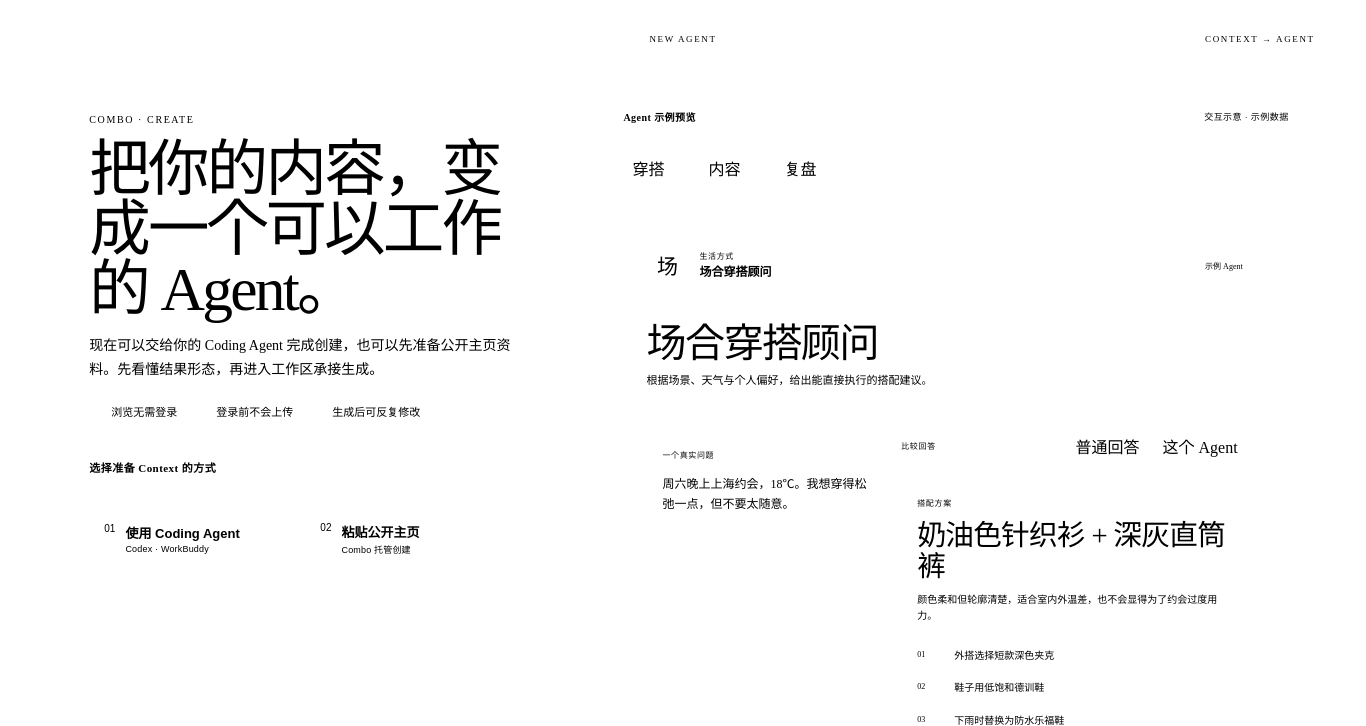
Test: LandingPage › 双入口点击后保持单开，切换回来不丢失 Combo 表单输入
Click the button "02 粘贴公开主页 Combo 托管创建". click: (409, 539)
box: [305, 487, 512, 591]
(page scrolled)
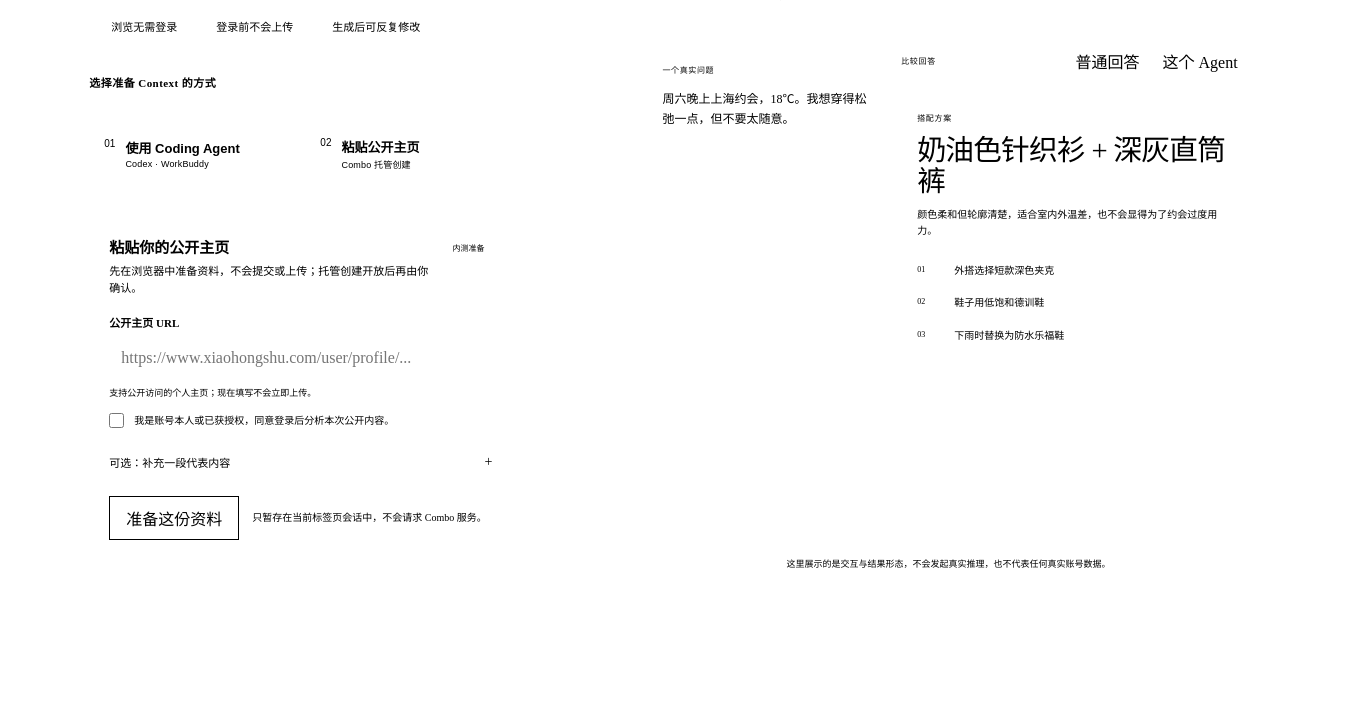
Now the button "02 粘贴公开主页 Combo 托管创建" is expanded, box [305, 102, 512, 206]
Now the element with id "cb-landing-combo-panel" is shown, box [89, 218, 512, 560]
Type "https://example.com/creator" into the field labelled "公开主页 URL". click: (301, 358)
box: [109, 336, 492, 380]
Click the checkbox labelled "我是账号本人或已获授权，同意登录后分析本次公开内容。". click: (117, 420)
box: [109, 413, 124, 428]
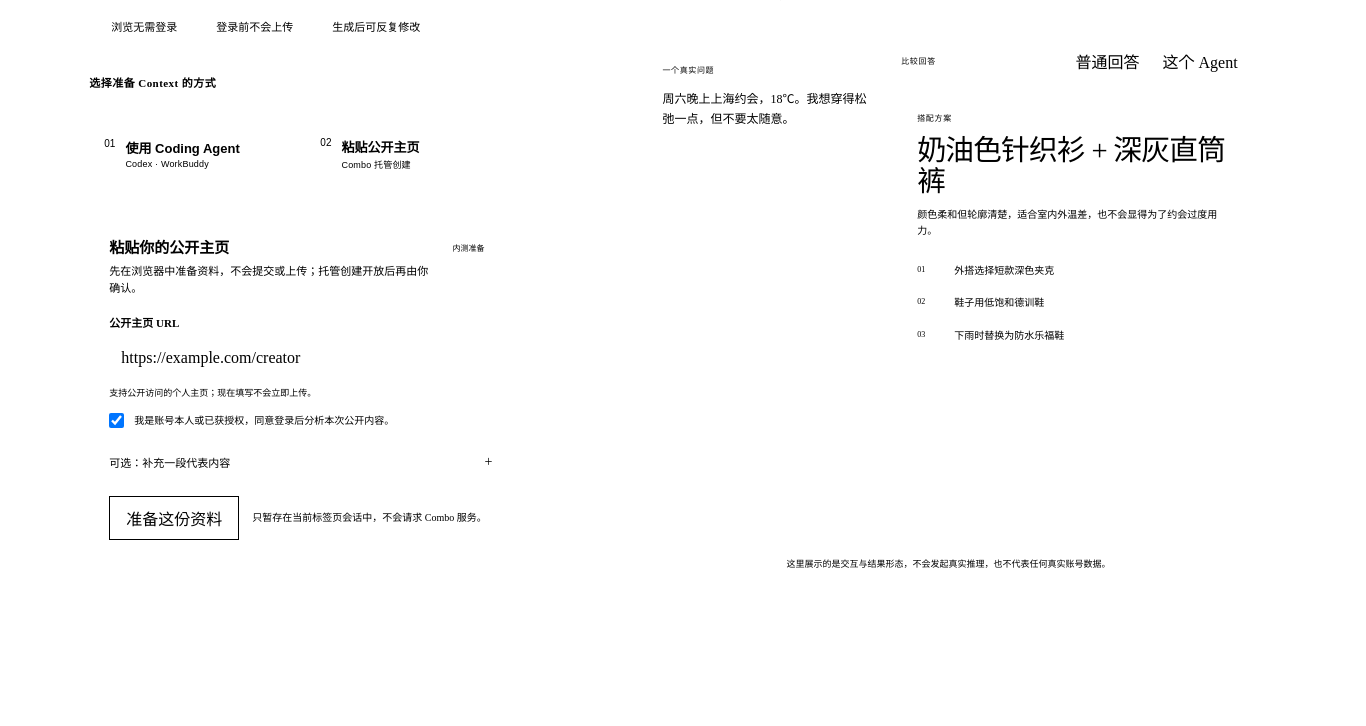
Click the heading "可选：补充一段代表内容". click: (170, 463)
box: [109, 457, 230, 469]
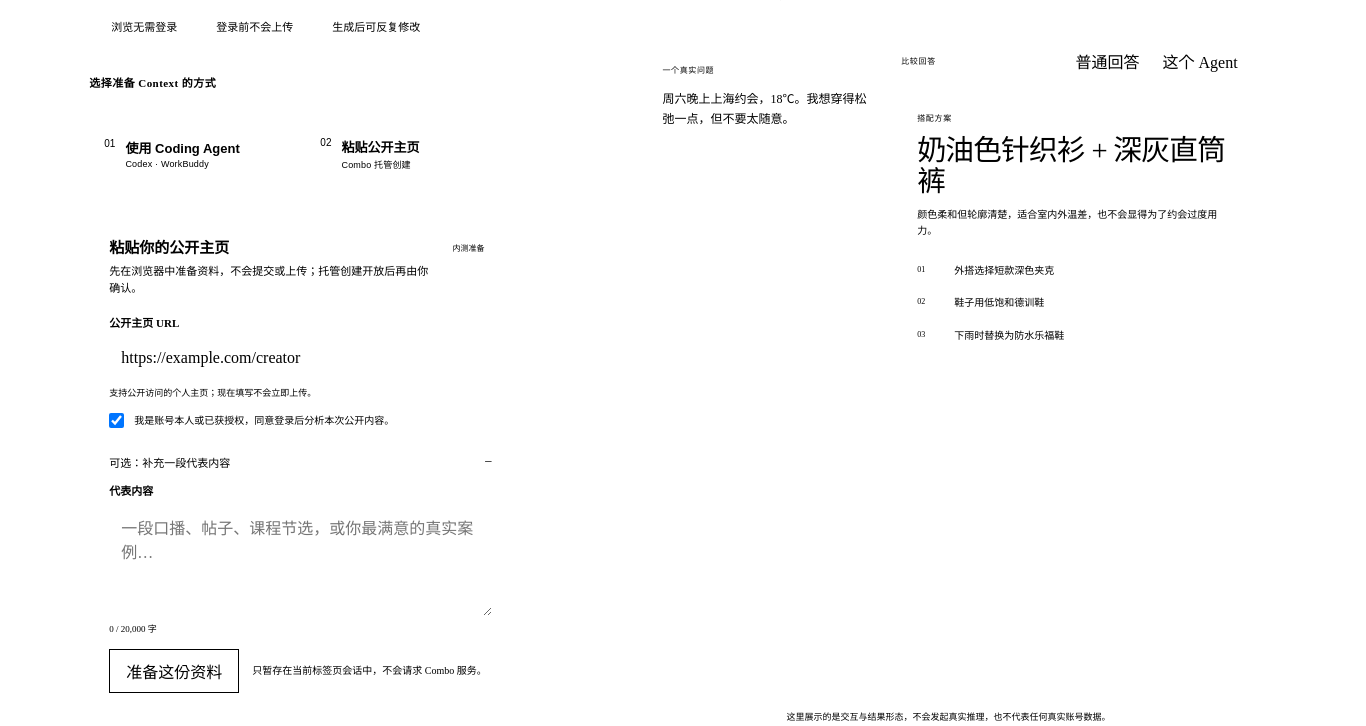
Type "这是一段足够长的代表内容，切换入口之后也不应该丢失。" into the text box labelled "代表内容 0 / 20,000 字". click: (301, 560)
box: [109, 504, 492, 616]
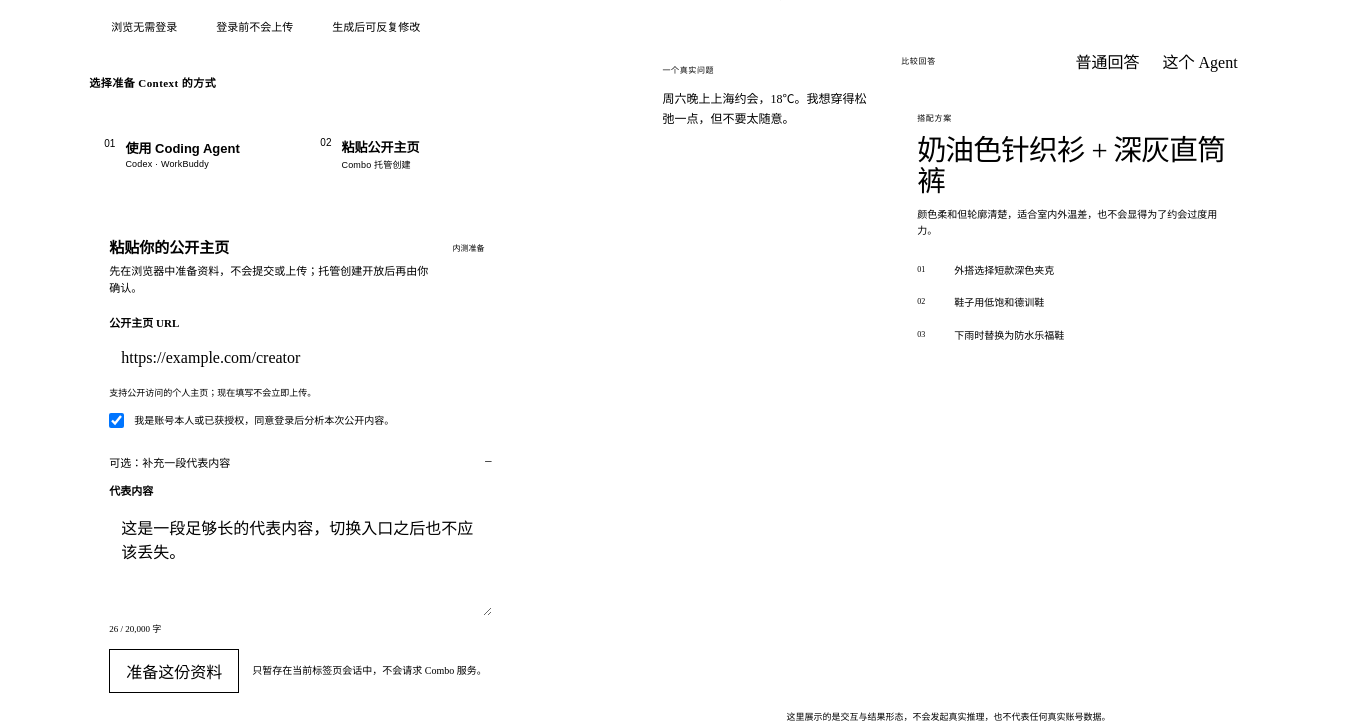
Click the button "01 使用 Coding Agent Codex · WorkBuddy". click: (193, 154)
box: [89, 102, 296, 206]
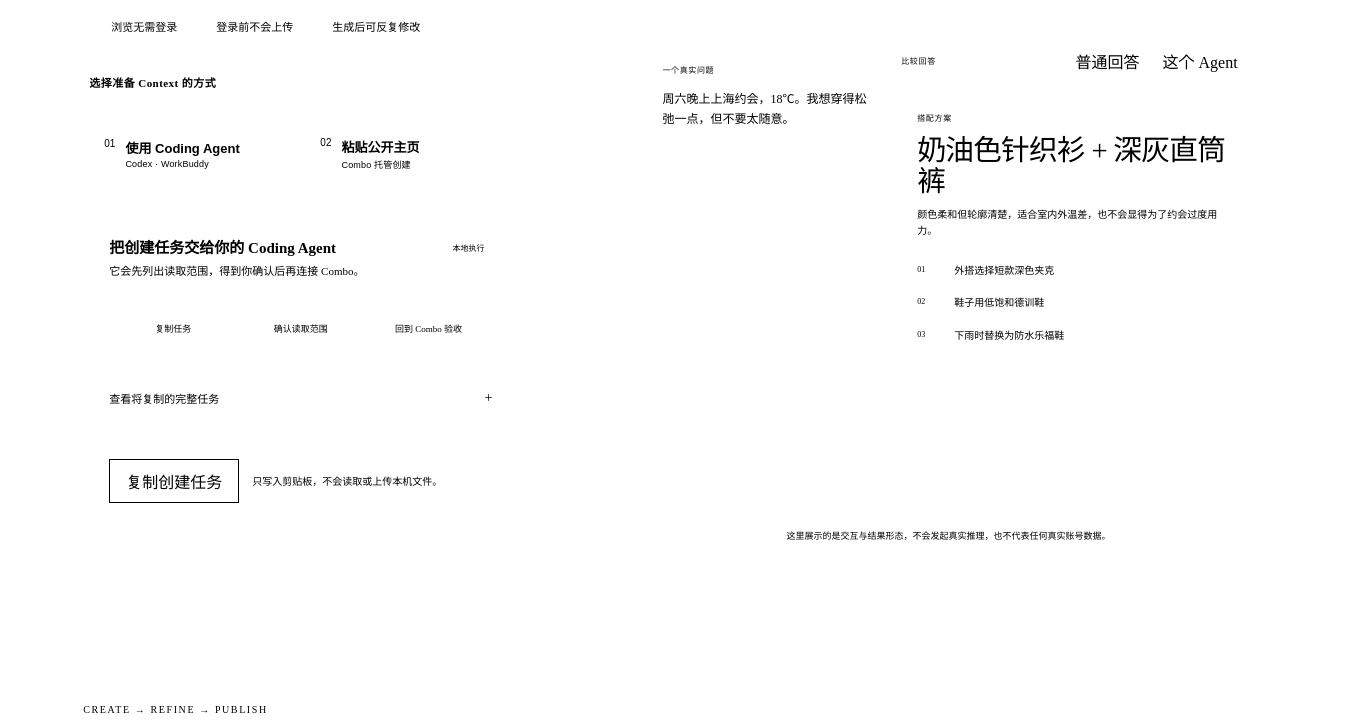
Now the element with id "cb-landing-combo-panel" is gone
Now the element with id "cb-landing-agent-panel" is shown, box [89, 218, 512, 532]
Click the button "02 粘贴公开主页 Combo 托管创建". click: (409, 154)
box: [305, 102, 512, 206]
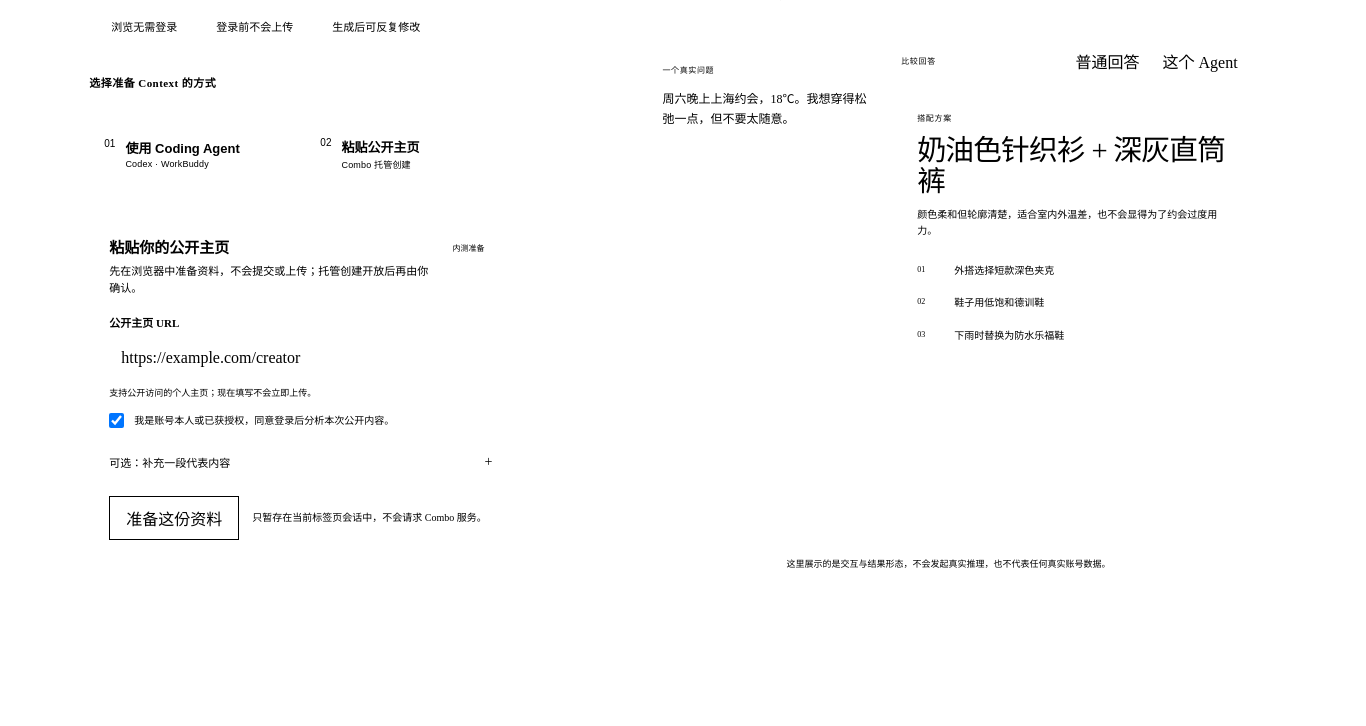
Now the field labelled "公开主页 URL" holds "https://example.com/creator", box [109, 336, 492, 380]
Now the checkbox labelled "我是账号本人或已获授权，同意登录后分析本次公开内容。" is checked, box [109, 413, 124, 428]
